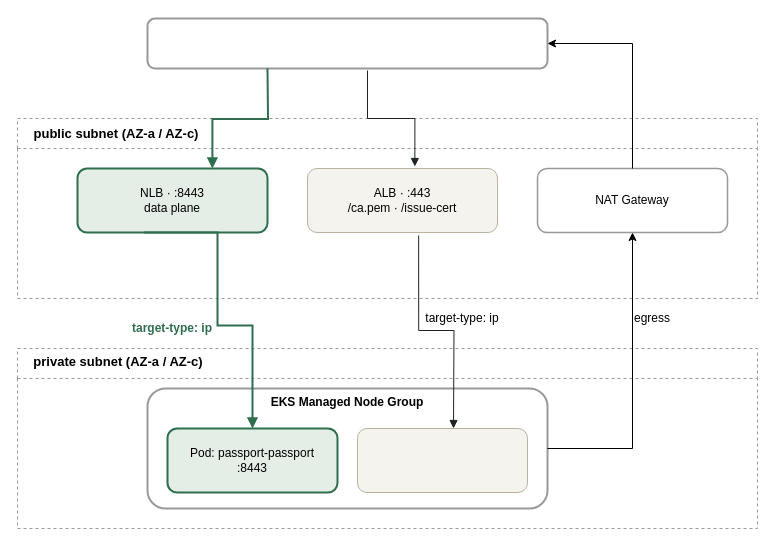
Image size: 775x546. Some labels were removed from this diagram. The shapes that lost their labels are listed below. From the top down, each one's centre as x and y in pixels, then its label:
point (347, 43): Internet
point (442, 460): Pod: passport-passport-mgmt :8081
